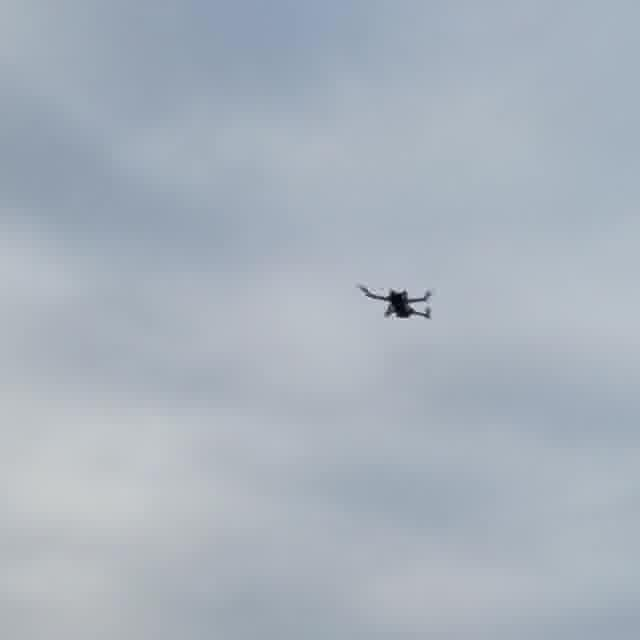Drohne: (358, 285, 430, 317)
